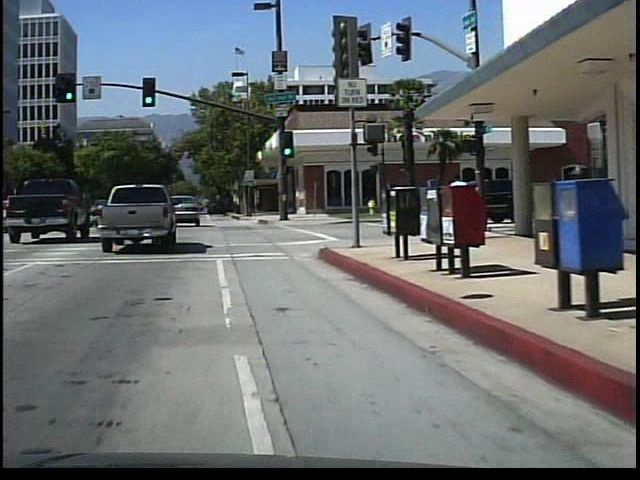person: (451, 169, 477, 241)
